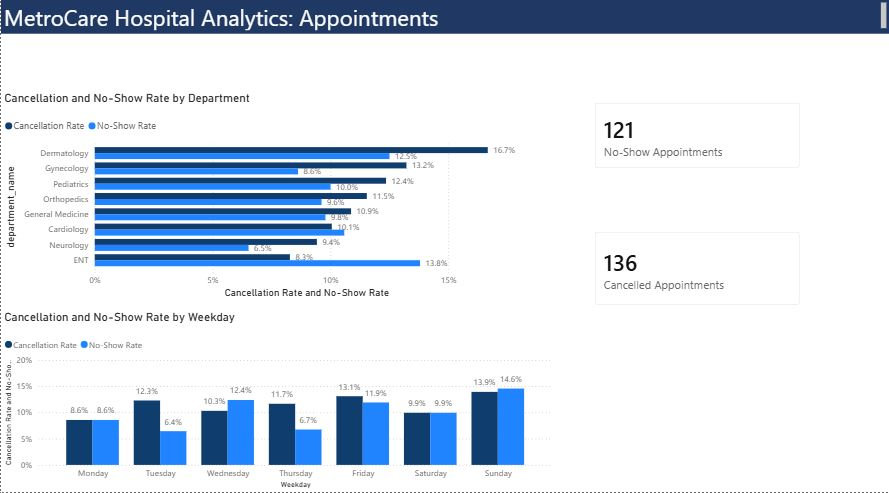

The page's visual inventory and layout, read from the dashboard file:
{"tool":"powerbi","page":{"name":"Appointments","canvas":[1280,720],"ordinal":2},"visuals":[{"type":"cardVisual","fields":{"Data":["Appointments.Cancelled Appointments"]},"box":[838.1,328.3,329.8,139.7],"z":0},{"type":"cardVisual","fields":{"Data":["Appointments.No-Show Appointments"]},"box":[838.1,142.6,329.8,128.2],"z":1000},{"type":"clusteredBarChart","title":"Cancellation and No-Show Rate by Department","fields":{"Category":["Departments.department_name"],"Y":["Appointments.Cancellation Rate","Appointments.No-Show Rate"]},"box":[0,142.6,763.2,303.8],"z":2000},{"type":"clusteredColumnChart","title":"Cancellation and No-Show Rate by Weekday","fields":{"Category":["DimDate.Weekday"],"Y":["Appointments.Cancellation Rate","Appointments.No-Show Rate"]},"box":[0,457.9,799.2,262.1],"z":3000},{"type":"textbox","box":[0,10,1280,50.4],"z":3001}]}

Visuals, with their boxes in screenshot pixels (x1, y1, x2, y2), scaled from the page's 1280x720 canvas onto the 889x493 screenshot:
cardVisual - Appointments.Cancelled Appointments: <region>582, 225, 811, 320</region>
cardVisual - Appointments.No-Show Appointments: <region>582, 98, 811, 185</region>
"Cancellation and No-Show Rate by Department" clusteredBarChart: <region>0, 98, 530, 306</region>
"Cancellation and No-Show Rate by Weekday" clusteredColumnChart: <region>0, 314, 555, 492</region>
textbox: <region>0, 7, 888, 41</region>
